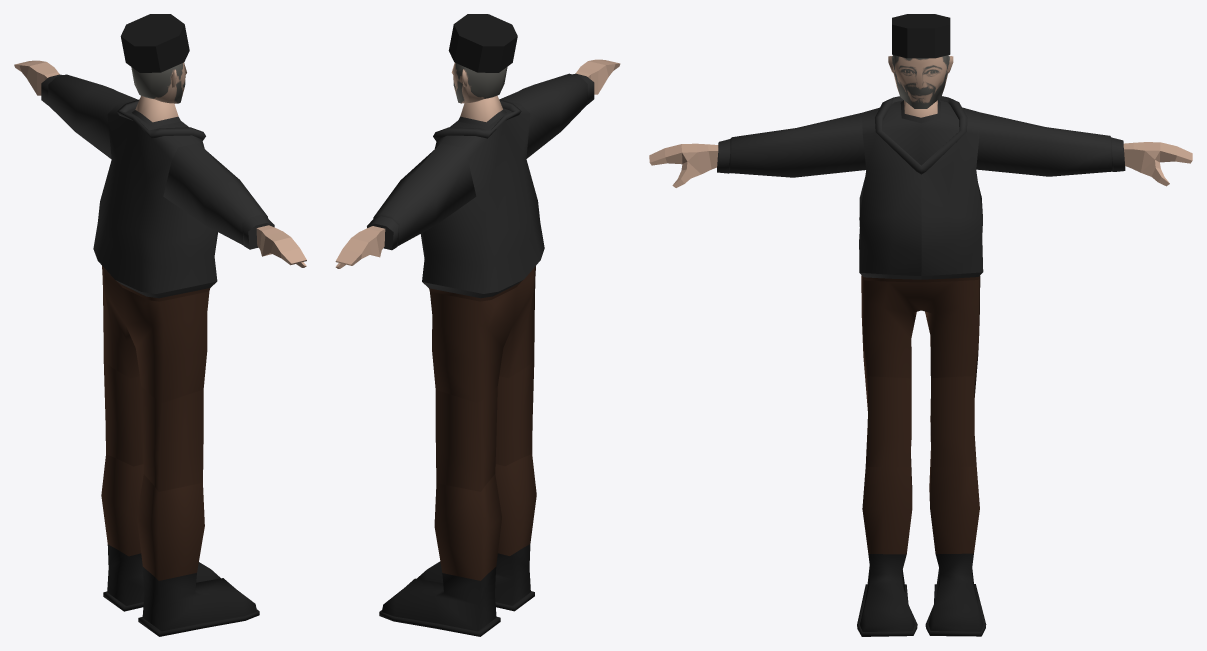
Rendered from NPC1_ChuvakSPomidorami.fbx.
3 views of the same model, side by side, from view 1: azimuth 30°, elevation 25°; view 2: azimuth 150°, elevation 25°; view 3: azimuth 270°, elevation 25° (orthographic).
Visible parts, largest first — view 1: Telo.005; view 2: Telo.005; view 3: Telo.005.
Boxes of the visible parts, x1,y1,x2,y2 form: Telo.005: (14, 14, 306, 636); Telo.005: (335, 14, 620, 636); Telo.005: (649, 14, 1192, 636).
Bounding box in the file's own units: 33.45 × 163 × 138.
Materials: 6 (1 with a texture image).
